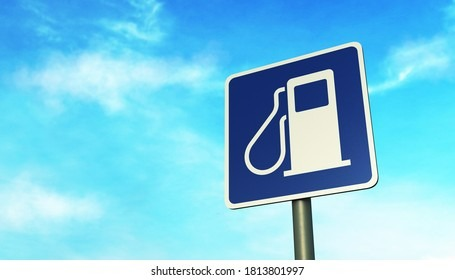fuel-station: (227, 42, 372, 210)
